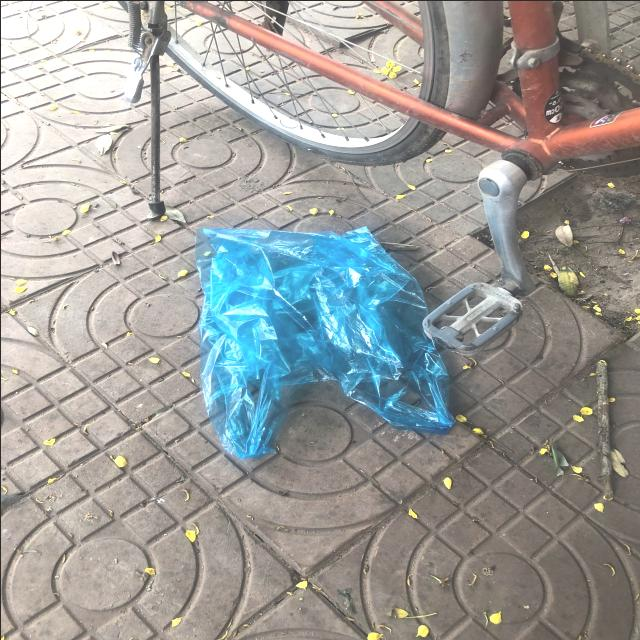Single-use carrier bag: (192, 225, 455, 459)
